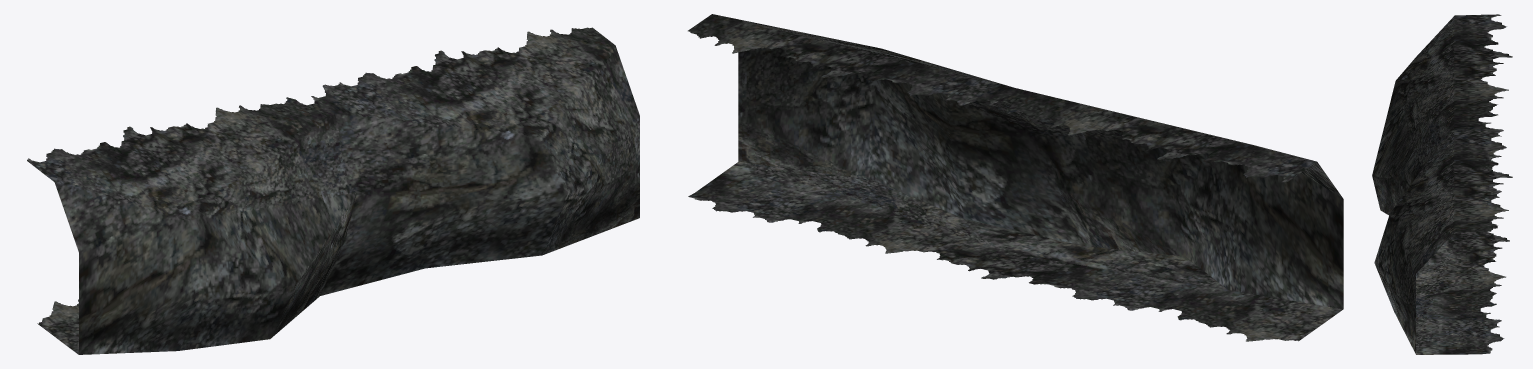
Rendered from rock_straight2m.dae.
3 renders of one model, left to right at view 1: azimuth 30°, elevation 25°; view 2: azimuth 150°, elevation 25°; view 3: azimuth 270°, elevation 25°, orthographic. The views are drawn at different scales.
Parts seen in each view (by area): view 1: pCube14; view 2: pCube14; view 3: pCube14.
Part boxes in pixels (<box>): pCube14: <box>27,27,639,354</box>; pCube14: <box>688,14,1343,341</box>; pCube14: <box>1372,14,1512,354</box>.
Size of the model in its own units: 2 by 0.5941 by 0.5721.
